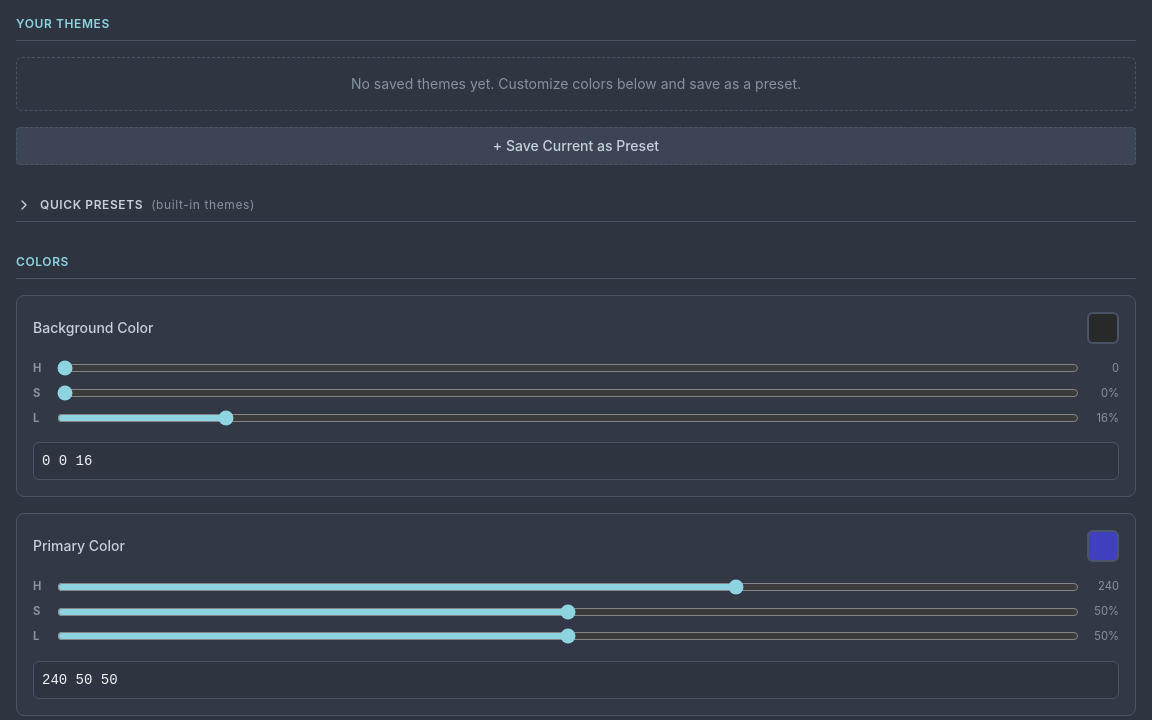
Scenario: ThemeDesigner › shows new preset form when clicking save preset button
The width and height of the screenshot is (1152, 720).
Click the button "+ Save Current as Preset".
click(576, 146)  # box [16,127,1136,165]
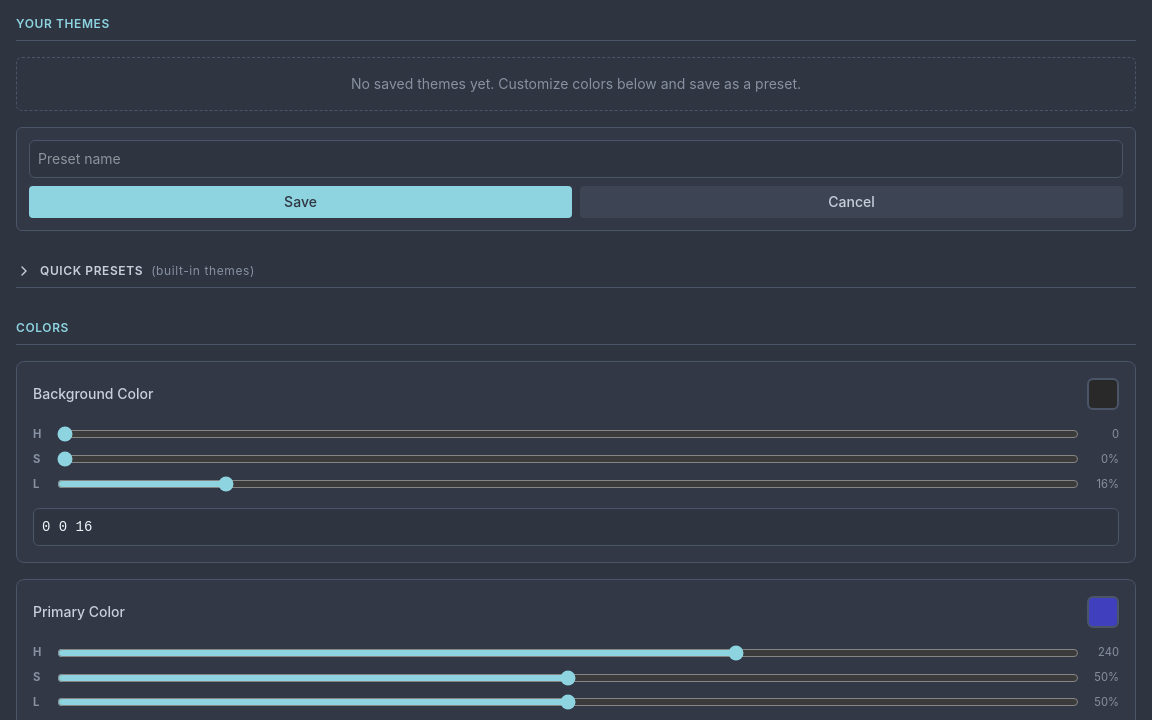
Expected: the button "Save" is shown, [29,186,572,218]
Now the field with placeholder "Preset name" is shown, box [29,140,1123,178]
Now the button "Cancel" is shown, box [580,186,1123,218]
